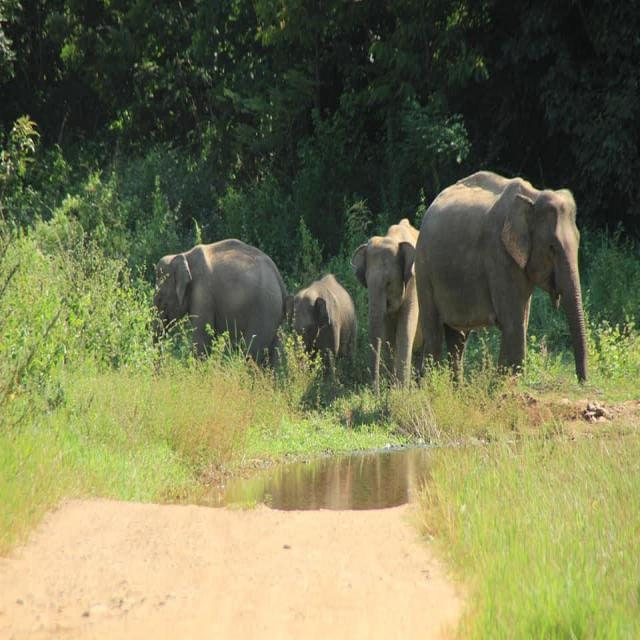Elephant: (427, 160, 598, 402), (131, 228, 288, 403), (347, 206, 429, 410), (293, 270, 356, 410)
